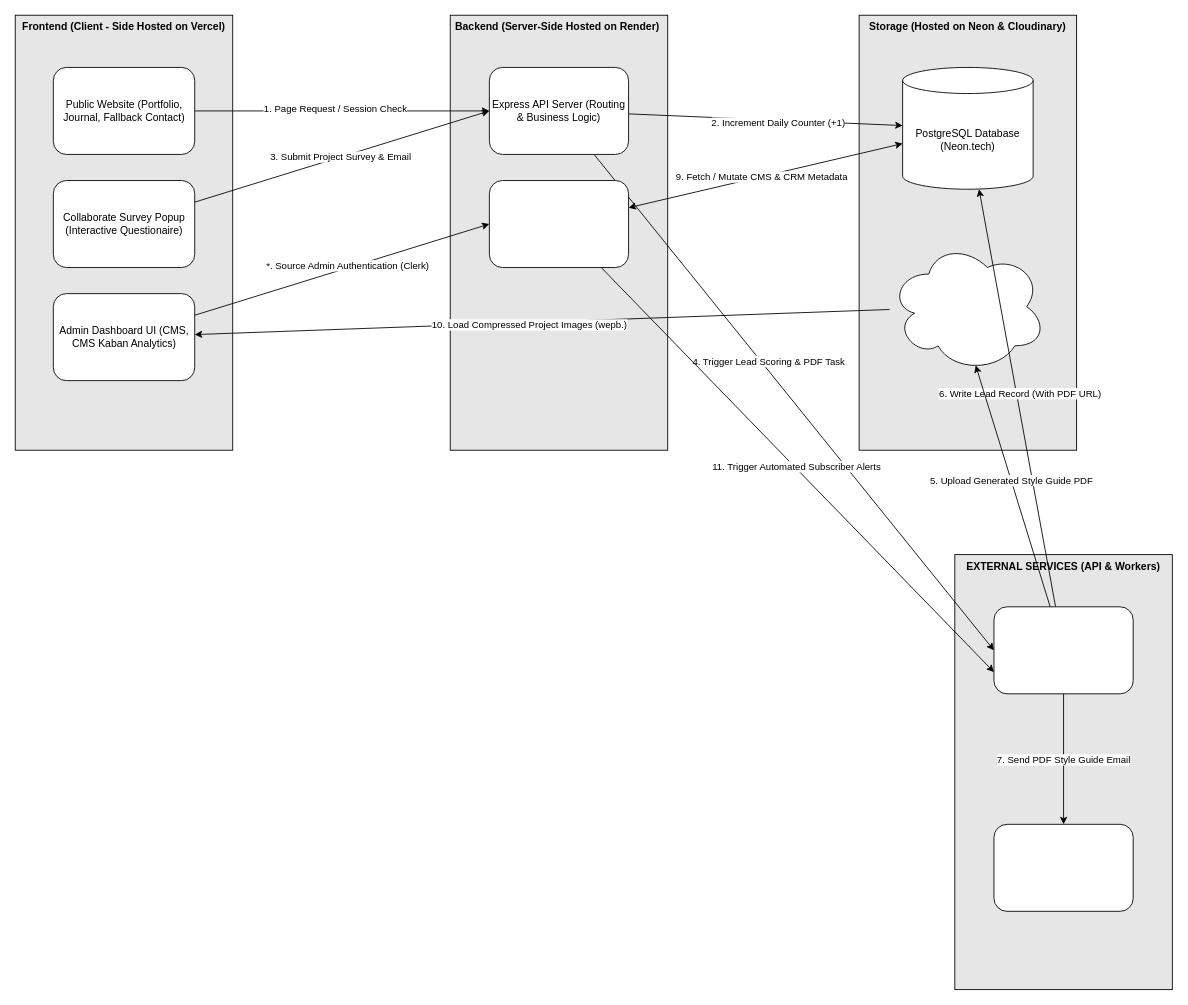
The diagram is 1188 pixels wide and 1005 high, and some of its shapes have lost their labels. Each missing label, with the centre of its shape:
"Cloudinary (Object Storage)" goes at pixel 967 306.
"Next.js Server Actions (CMS & CRM Mutations)" goes at pixel 559 224.
"Resend / Nodemailer (Transactional Mailer)" goes at pixel 1063 867.
"Trigger.dev (Background Cron Jobs & Workers)" goes at pixel 1063 650.
